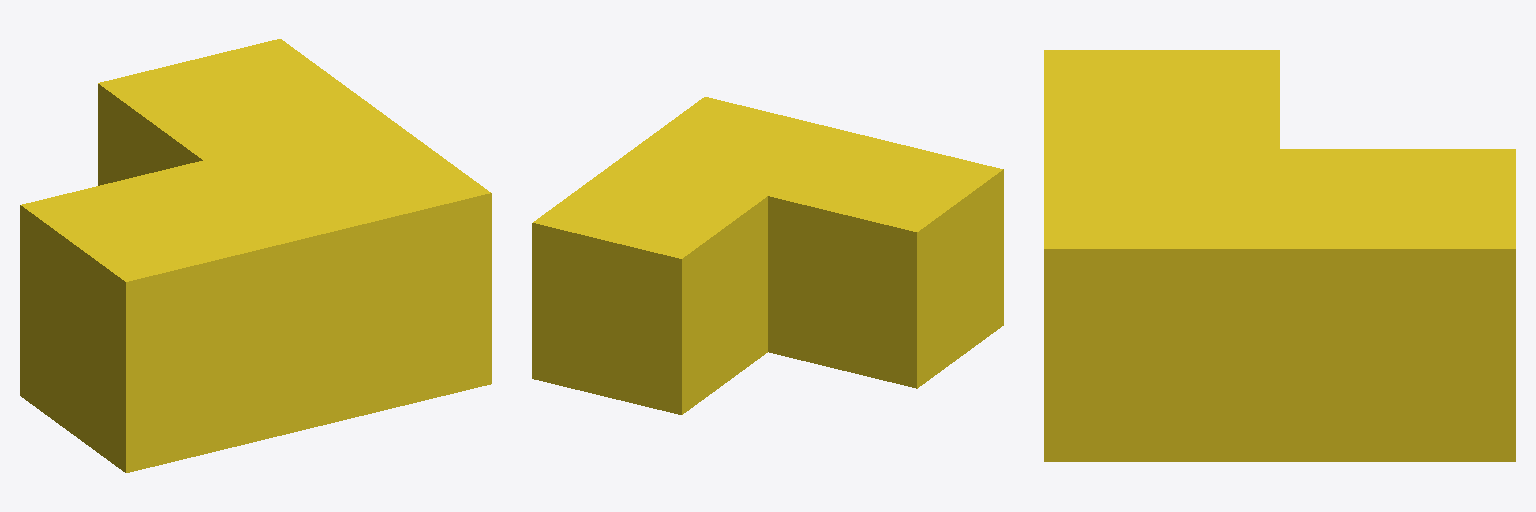
The robot description file, URDF, robot "lblock_yellow":
<?xml version="1.0"?>
<robot name="lblock_yellow">
  <link name="arm_a">
    <inertial>
      <origin xyz="0 0 0.020000" rpy="0 0 0"/>
      <mass value="0.048"/>
      <inertia ixx="0.00001280" ixy="0" ixz="0" iyy="0.00003200" iyz="0" izz="0.00003200"/>
    </inertial>
    <visual>
      <origin xyz="0 0 0.020000" rpy="0 0 0"/>
      <geometry><box size="0.08 0.04 0.04"/></geometry>
      <material name="lblock_yellow_mat"><color rgba="0.95 0.85 0.2 1.0"/></material>
    </visual>
    <collision>
      <origin xyz="0 0 0.020000" rpy="0 0 0"/>
      <geometry><box size="0.08 0.04 0.04"/></geometry>
    </collision>
  </link>
  <link name="arm_b">
    <inertial>
      <origin xyz="0 0 0.020000" rpy="0 0 0"/>
      <mass value="0.032"/>
      <inertia ixx="0.00000853" ixy="0" ixz="0" iyy="0.00000853" iyz="0" izz="0.00000853"/>
    </inertial>
    <visual>
      <origin xyz="0 0 0.020000" rpy="0 0 0"/>
      <geometry><box size="0.04 0.04 0.04"/></geometry>
      <material name="lblock_yellow_mat"><color rgba="0.95 0.85 0.2 1.0"/></material>
    </visual>
    <collision>
      <origin xyz="0 0 0.020000" rpy="0 0 0"/>
      <geometry><box size="0.04 0.04 0.04"/></geometry>
    </collision>
  </link>
  <joint name="ab_joint" type="fixed">
    <parent link="arm_a"/>
    <child link="arm_b"/>
    <origin xyz="0.02 0.04 0.0" rpy="0 0 0"/>
  </joint>
</robot>

--- Render facts (derived) ---
The picture shows the robot from 3 angles, left to right: view 1: azimuth 30°, elevation 25°; view 2: azimuth 150°, elevation 25°; view 3: azimuth 270°, elevation 25°; orthographic projection.
Robot: lblock_yellow — 2 links, 1 joints (1 fixed); root link arm_a; default pose: all joints at 0.
Links seen in each view (by area): view 1: arm_a, arm_b; view 2: arm_a, arm_b; view 3: arm_a, arm_b.
Link boxes in pixels (x1,y1,x2,y2): arm_a: (20,116,491,472); arm_b: (98,39,385,185); arm_a: (619,97,1003,388); arm_b: (532,160,767,414); arm_a: (1044,50,1279,461); arm_b: (1280,149,1515,461).
Size in the robot's own frame: 0.08 by 0.08 by 0.04 metres.
Geometry: primitives only (box / cylinder / sphere), no mesh files.
